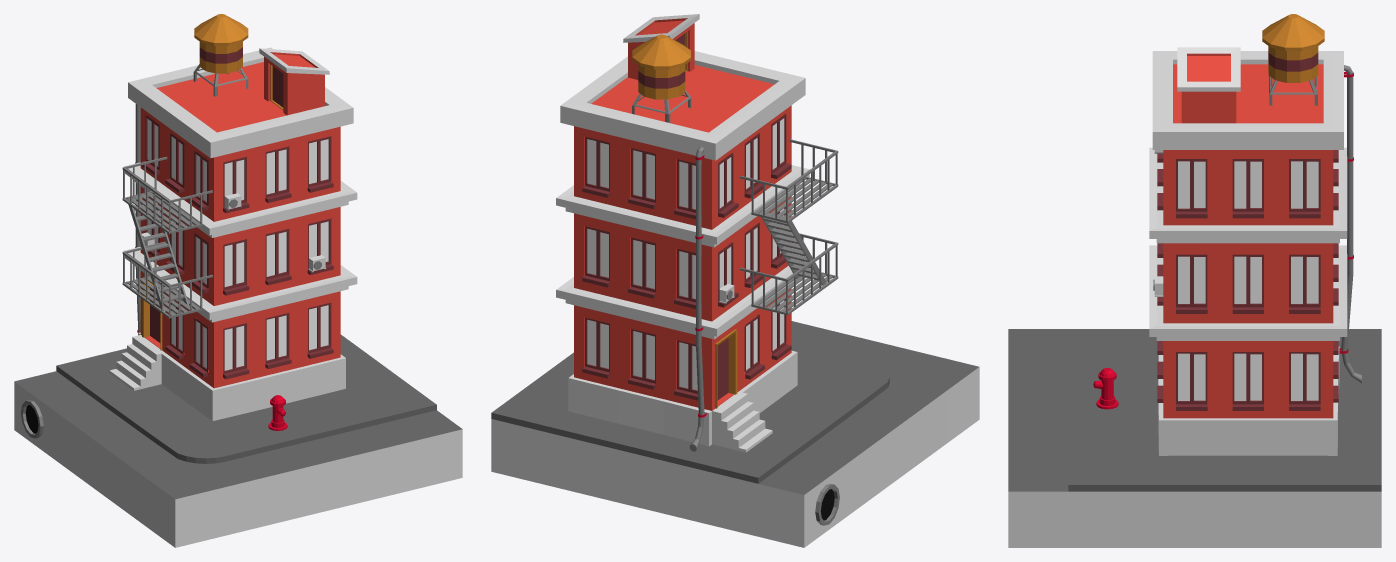
Rendered from apartment.glb.
3 renders of one model, left to right at view 1: azimuth 30°, elevation 25°; view 2: azimuth 150°, elevation 25°; view 3: azimuth 270°, elevation 25°, orthographic. The views are drawn at different scales.
Parts seen in each view (by area): view 1: AP_0, Piso_1, Escada Incendio_2, Assets_4, Ar Cond_3; view 2: AP_0, Piso_1, Escada Incendio_2, Assets_4; view 3: AP_0, Piso_1, Assets_4.
Part boxes in pixels (x1=…): AP_0: x1=109, y1=14, x2=357, y2=421; Piso_1: x1=14, y1=334, x2=462, y2=547; Escada Incendio_2: x1=122, y1=156, x2=212, y2=318; Assets_4: x1=21, y1=104, x2=287, y2=438; Ar Cond_3: x1=140, y1=193, x2=326, y2=272; AP_0: x1=556, y1=14, x2=809, y2=452; Piso_1: x1=491, y1=321, x2=979, y2=547; Escada Incendio_2: x1=740, y1=139, x2=838, y2=315; Assets_4: x1=689, y1=146, x2=839, y2=525; AP_0: x1=1149, y1=14, x2=1347, y2=455; Piso_1: x1=1008, y1=329, x2=1381, y2=547; Assets_4: x1=1093, y1=65, x2=1361, y2=409.
Bounding box in the file's own units: 4.59 × 6.04 × 4.4.
